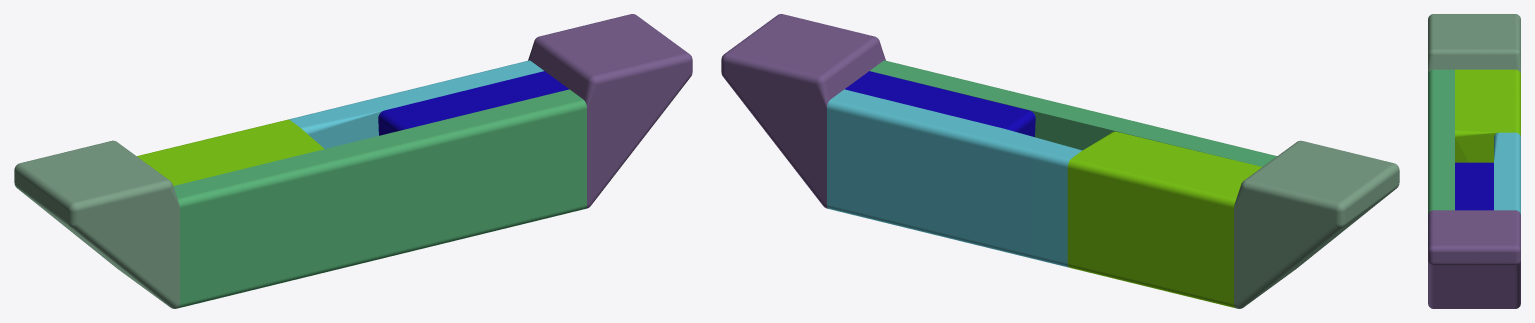
Rendered from 0_canonical.obj.
3 renders of one model, left to right at view 1: azimuth 30°, elevation 25°; view 2: azimuth 150°, elevation 25°; view 3: azimuth 270°, elevation 25°, orthographic. The views are drawn at different scales.
Visible parts, largest first — view 1: geometry_3, geometry_0, geometry_1, geometry_4, geometry_2, geometry_5; view 2: geometry_2, geometry_4, geometry_0, geometry_1, geometry_3, geometry_5; view 3: geometry_1, geometry_4, geometry_0, geometry_3, geometry_2, geometry_5.
Boxes of the visible parts, x1=… form: geometry_3: x1=173, y1=89, x2=586, y2=307; geometry_0: x1=14, y1=140, x2=179, y2=308; geometry_1: x1=528, y1=14, x2=692, y2=208; geometry_4: x1=137, y1=119, x2=324, y2=185; geometry_2: x1=288, y1=60, x2=543, y2=148; geometry_5: x1=378, y1=71, x2=568, y2=135; geometry_2: x1=827, y1=89, x2=1082, y2=267; geometry_4: x1=1067, y1=131, x2=1261, y2=307; geometry_0: x1=1234, y1=140, x2=1399, y2=308; geometry_1: x1=721, y1=14, x2=885, y2=208; geometry_3: x1=870, y1=60, x2=1276, y2=166; geometry_5: x1=845, y1=71, x2=1035, y2=136; geometry_1: x1=1428, y1=210, x2=1520, y2=308; geometry_4: x1=1455, y1=69, x2=1520, y2=162; geometry_0: x1=1428, y1=14, x2=1520, y2=73; geometry_3: x1=1428, y1=69, x2=1454, y2=214; geometry_2: x1=1494, y1=132, x2=1520, y2=214; geometry_5: x1=1455, y1=162, x2=1493, y2=210.
Bounding box in the file's own units: 0.0762 × 0.0152 × 0.0127.
